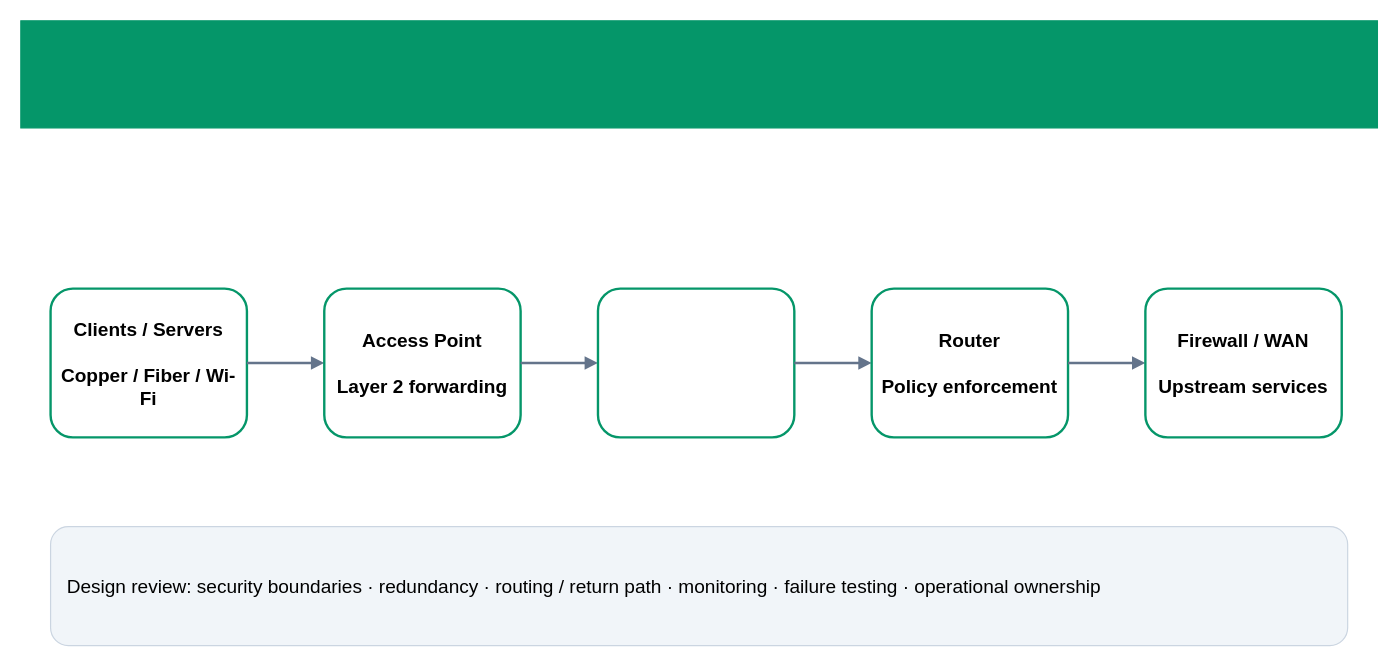
This 1398x666 diagram has some shape labels left out. Each missing label, with the centre of its shape:
Network Devices and Infrastructure Physical and logical building blocks: the point at 698,74
Switch Layer 3 routing: the point at 695,362
